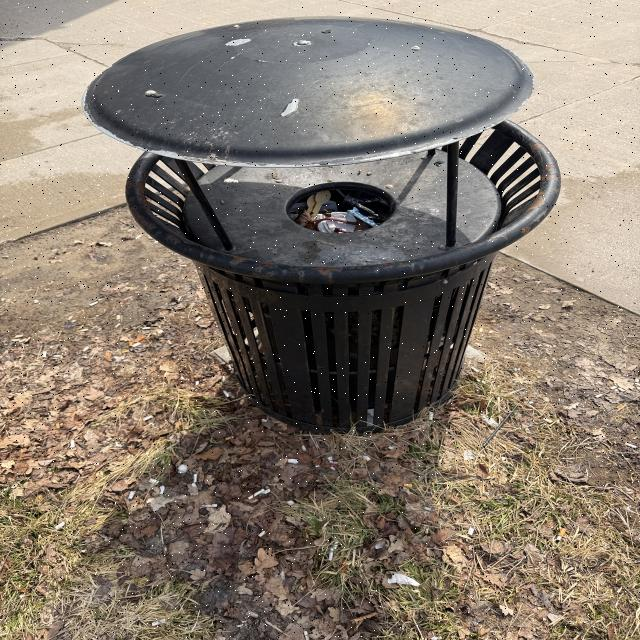Dustbin: (81, 15, 563, 434)
